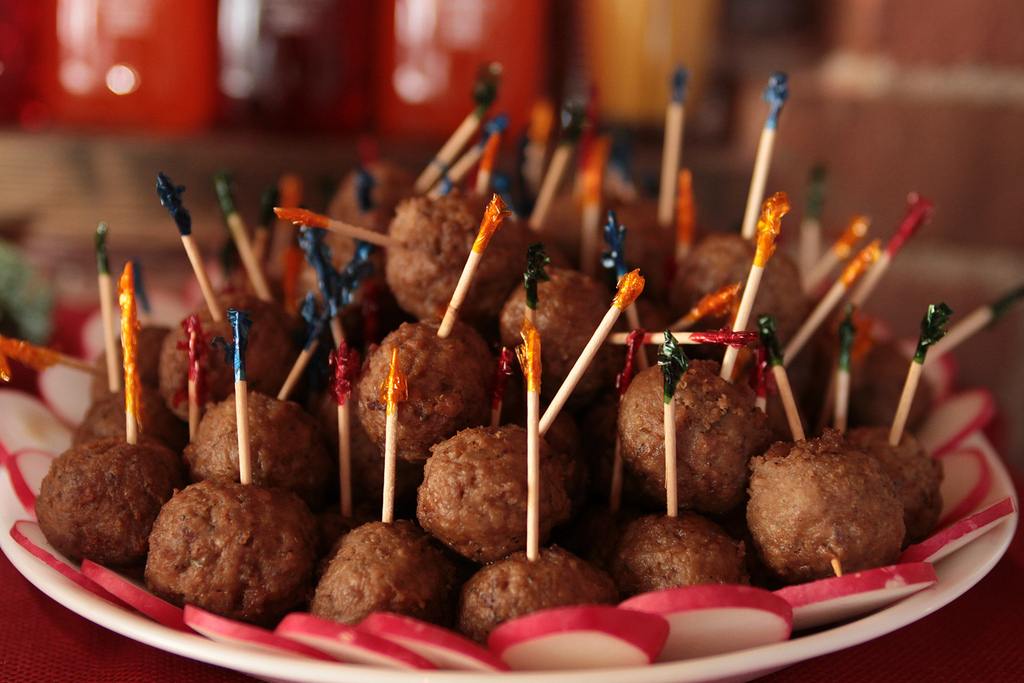meatballs: (616, 346, 784, 506), (739, 431, 907, 583), (149, 472, 320, 617), (414, 414, 574, 561), (359, 309, 496, 476), (26, 438, 194, 561), (161, 290, 316, 419), (384, 180, 529, 309), (497, 267, 620, 408), (187, 383, 329, 501), (320, 514, 458, 632), (465, 537, 609, 622), (611, 506, 743, 589)
